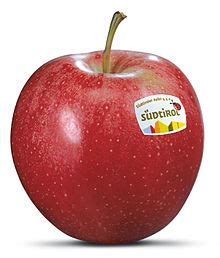apple: (11, 11, 205, 246)
